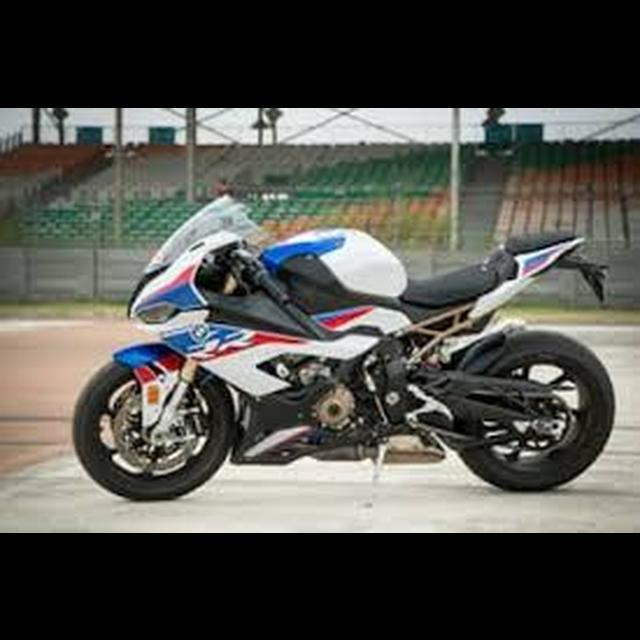motorcycle: (69, 189, 622, 508)
